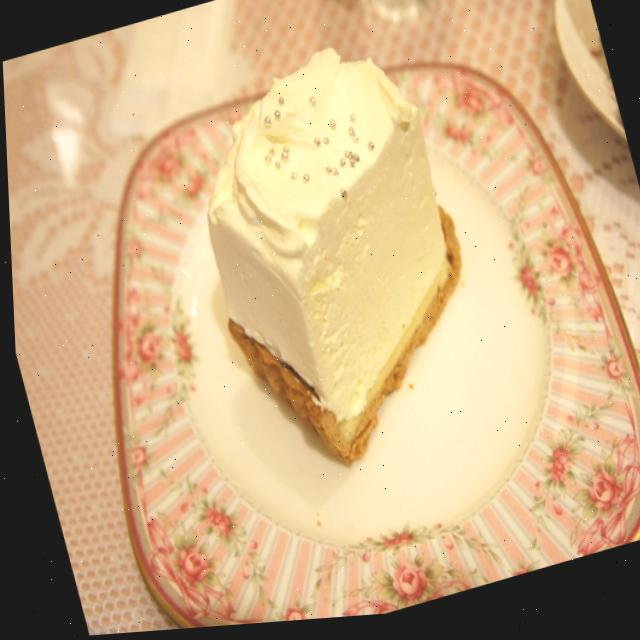蛋糕甜品: (7, 0, 640, 640)
